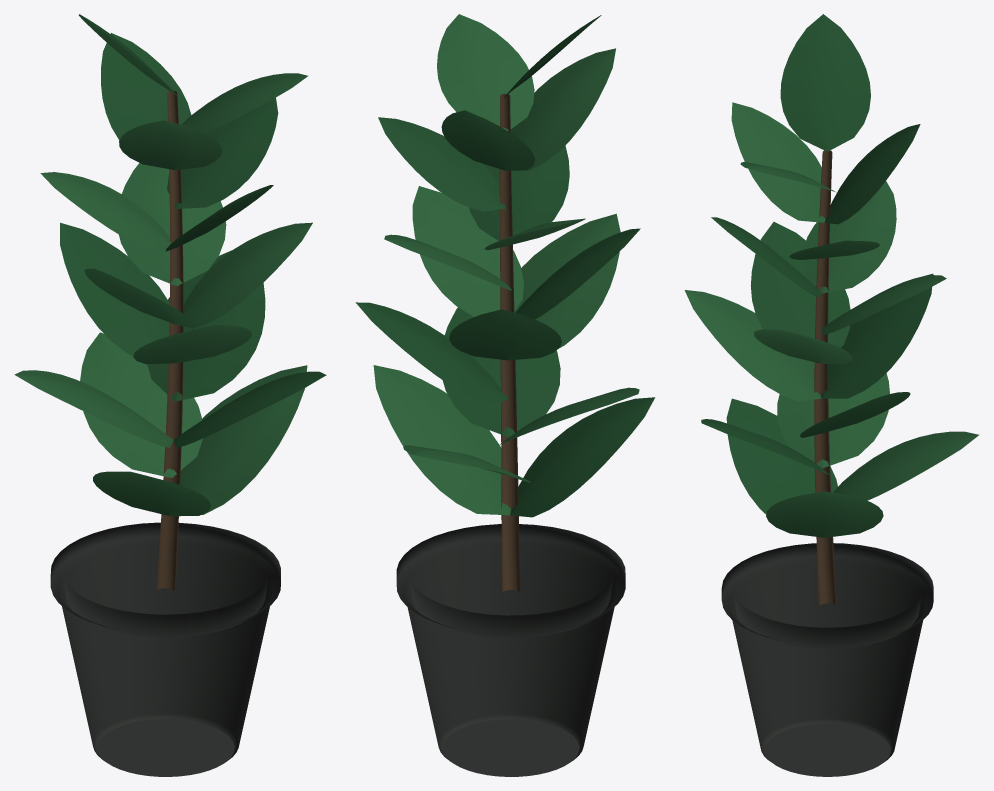
File: rubber_charcoal_S.glb
The picture shows the model from 3 angles, left to right: view 1: azimuth 30°, elevation 25°; view 2: azimuth 150°, elevation 25°; view 3: azimuth 270°, elevation 25°; orthographic projection. The views are drawn at different scales.
Parts seen in each view (by area): view 1: Rubber Plant (charcoal, S); view 2: Rubber Plant (charcoal, S); view 3: Rubber Plant (charcoal, S).
Boxes of the visible parts, left/top/right/bottom form: Rubber Plant (charcoal, S): left=14, top=14, right=326, bottom=776; Rubber Plant (charcoal, S): left=355, top=14, right=655, bottom=776; Rubber Plant (charcoal, S): left=684, top=14, right=978, bottom=776.
Bounding box in the file's own units: 0.255 × 0.6597 × 0.2534.
